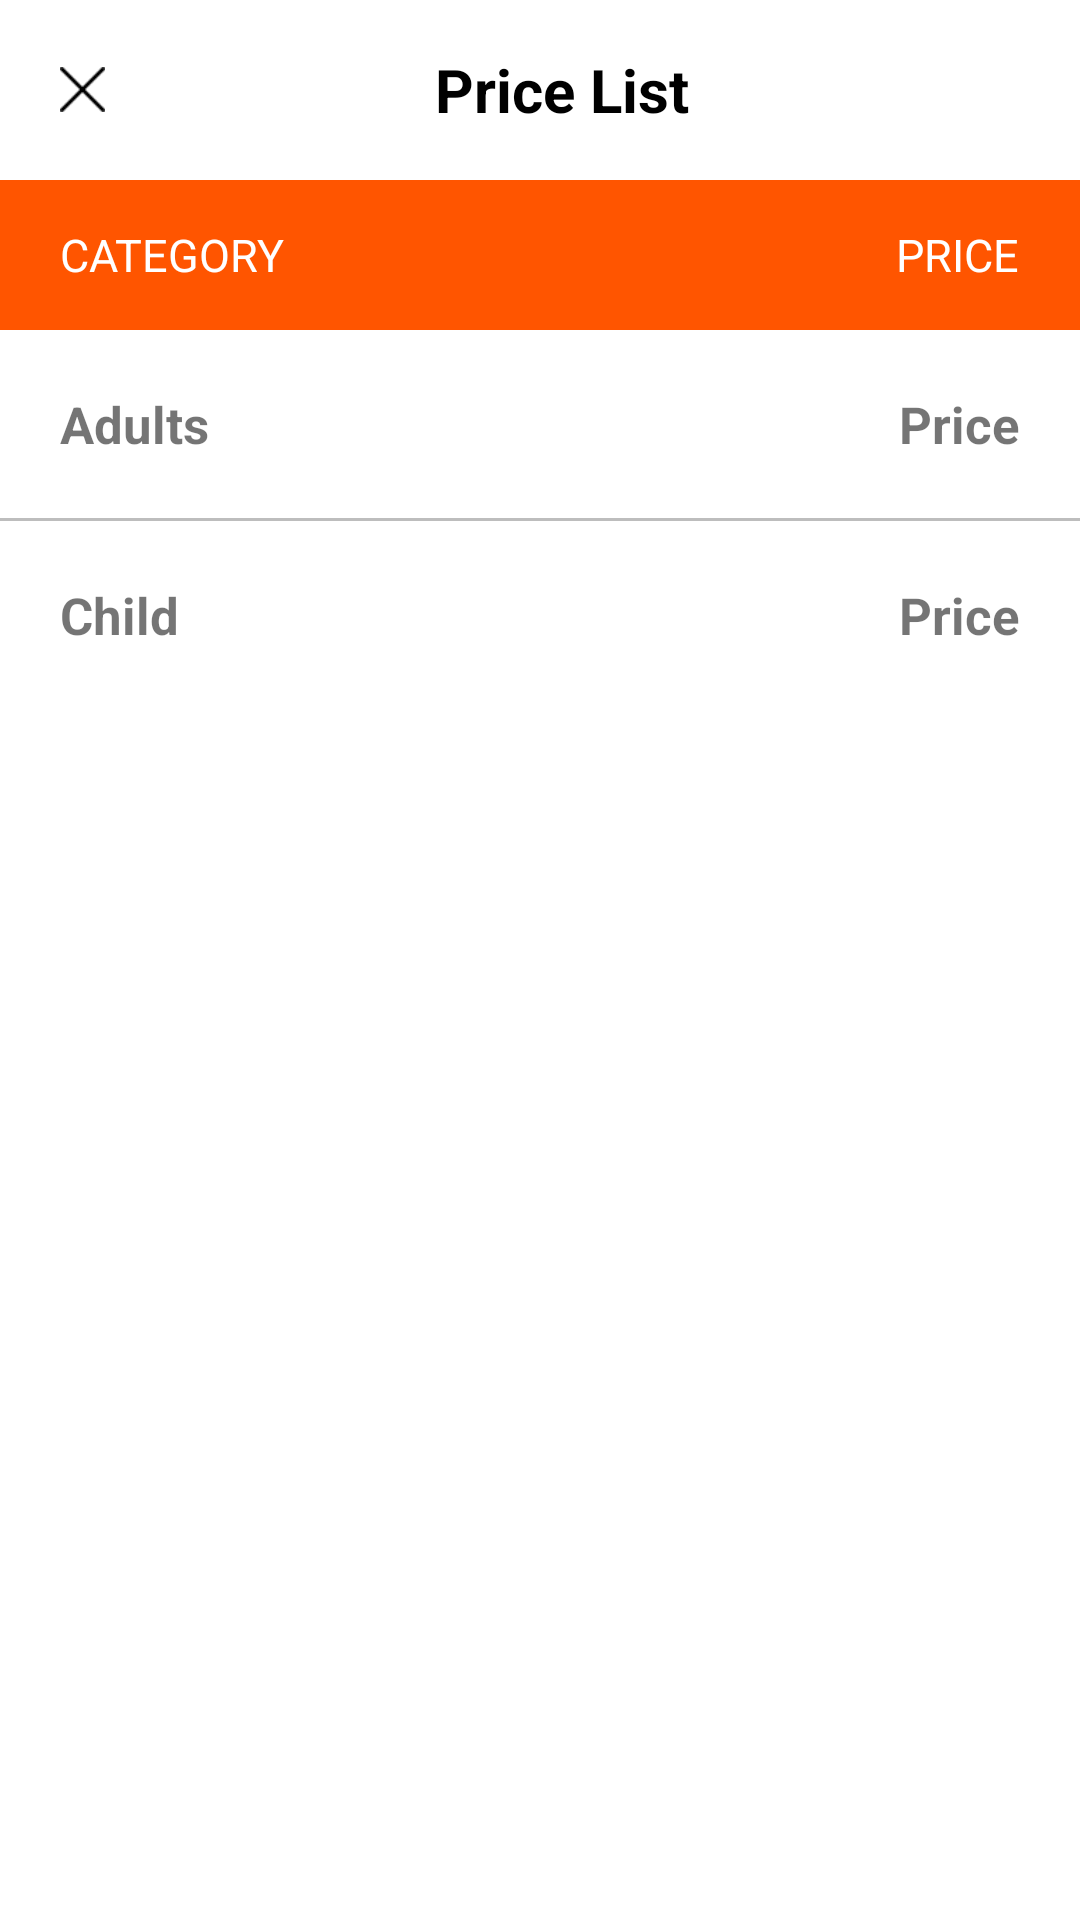

Named icons in this screenshot (1080px×1920px) and their bounding boxes, Rect(x1, y1, x2, y2):
close: Rect(60, 67, 105, 112)
